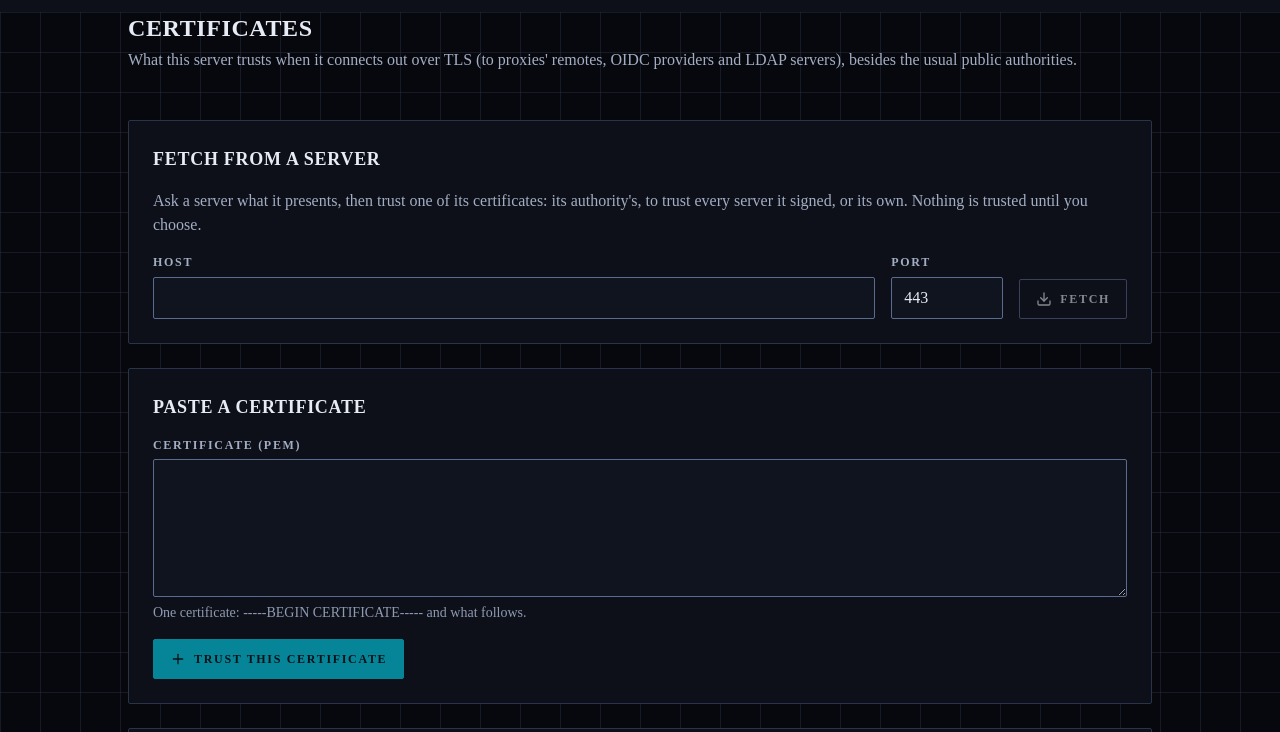
Test case: the trusted certificates (spec 6) › say why a server could not be asked
In the field labelled "Host": (514, 298) top-left (153, 277), bottom-right (875, 319), type "ldap.corp.example"
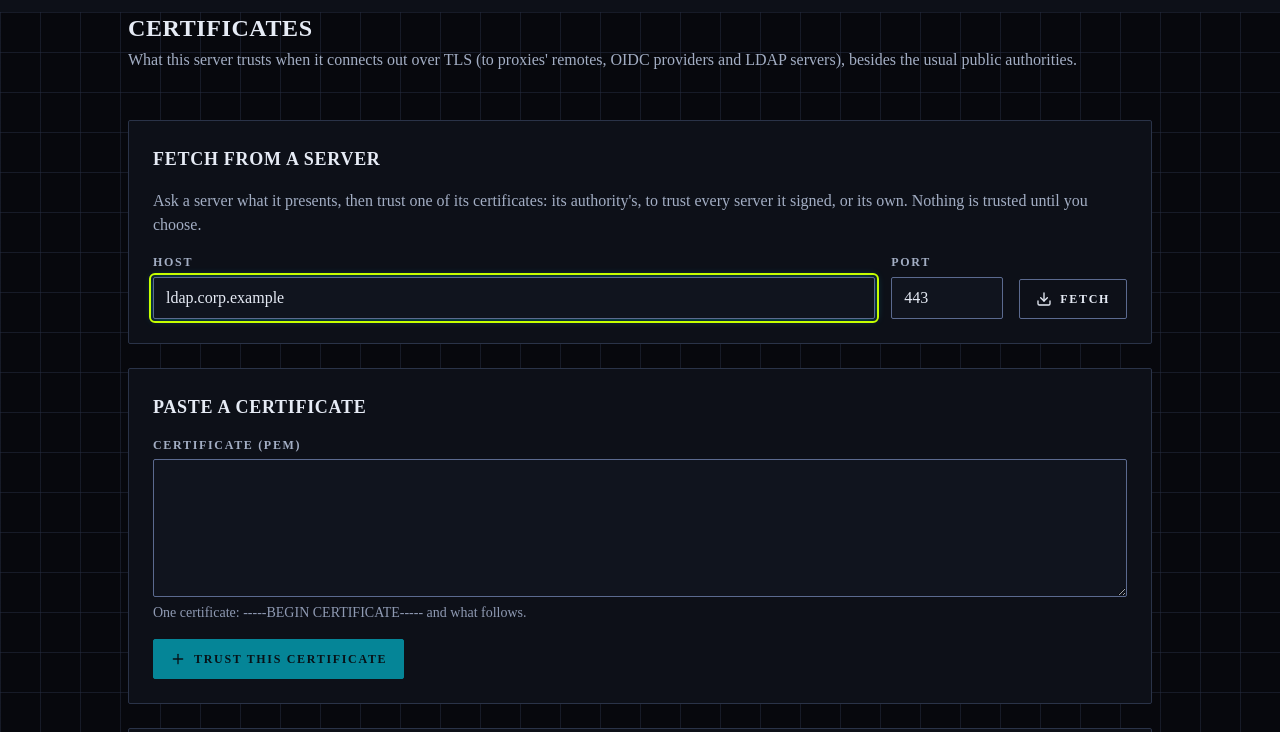
Click the button "Fetch": (1073, 299) top-left (1019, 279), bottom-right (1127, 319)
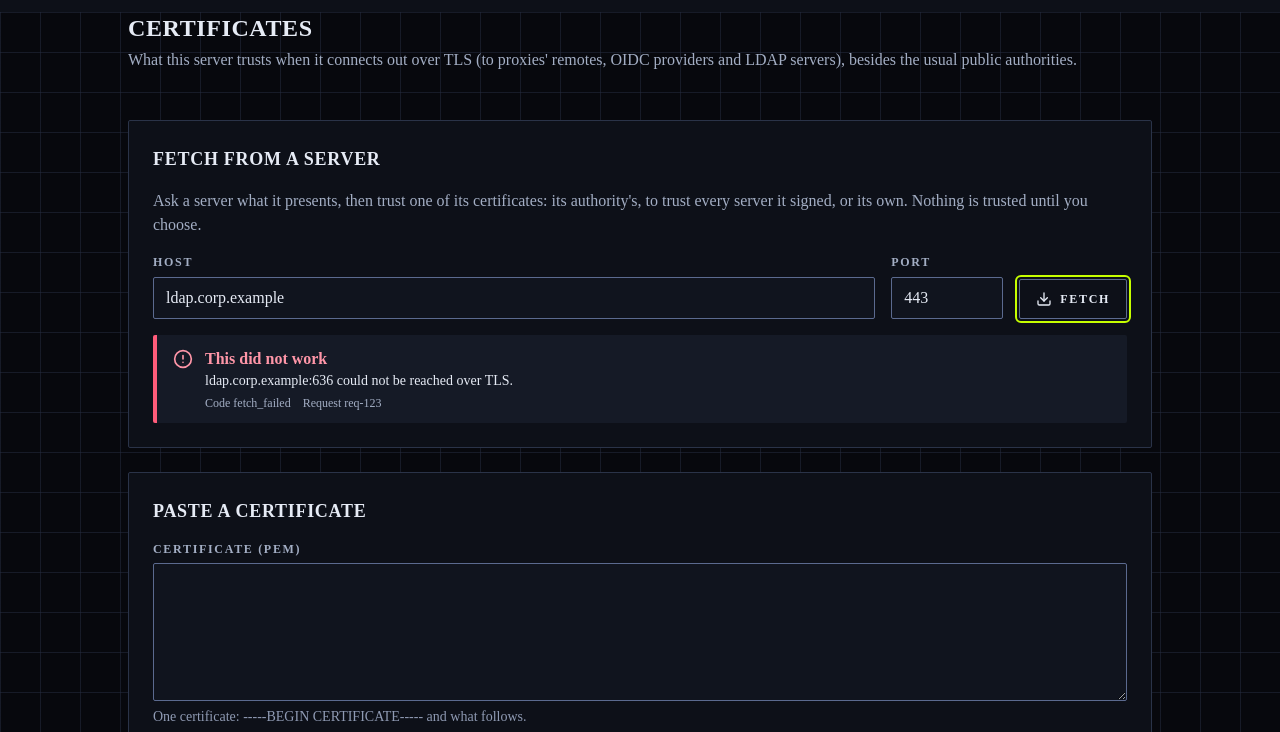
Expected: the text "ldap.corp.example:636 could not be reached over TLS." is shown, top-left (205, 371), bottom-right (513, 391)
